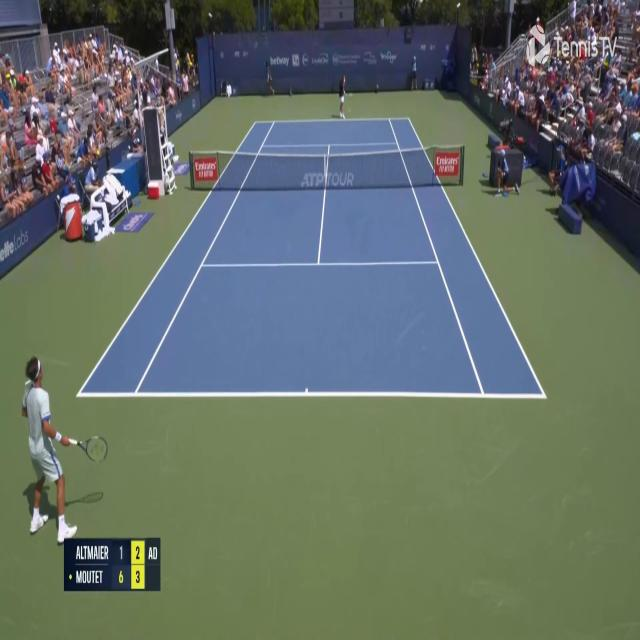tennis-player: (20, 348, 109, 540), (337, 74, 348, 122)
